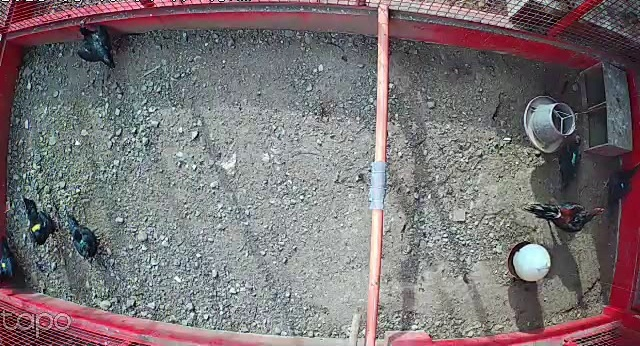Chicken: (73, 18, 122, 78), (62, 206, 105, 265), (599, 153, 640, 214), (17, 191, 59, 246), (550, 135, 586, 193), (0, 229, 22, 291)
Rooster: (524, 193, 606, 235)
Saddle_Color_Yellow: (32, 222, 43, 231)
